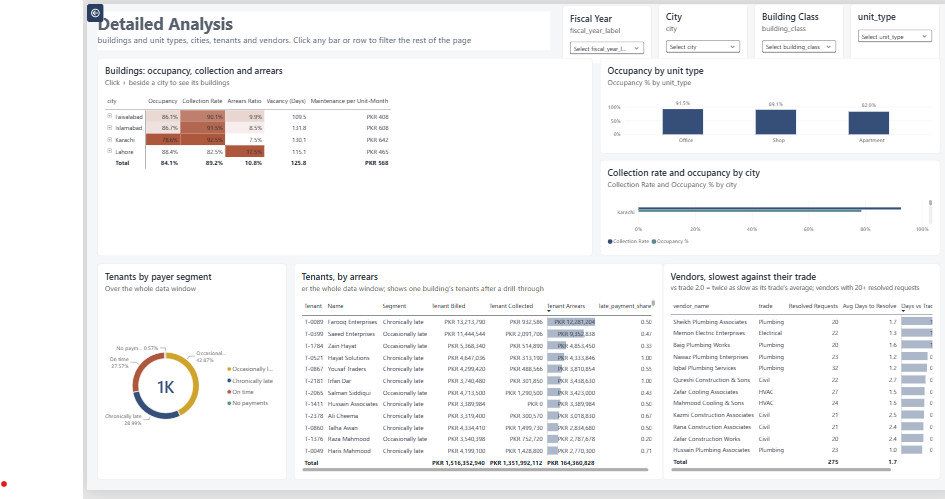

The page's visual inventory and layout, read from the dashboard file:
{"tool":"powerbi","page":{"name":"Detailed Analysis","canvas":[1920,1080],"ordinal":1},"visuals":[{"type":"textbox","box":[24,68,1006,36],"z":0},{"type":"textbox","box":[24,16,1006,56],"z":1000},{"type":"listSlicer","title":"Fiscal Year","fields":{"Values":["vw_dim_date.fiscal_year_label"]},"box":[1056,2,198,130],"z":2000},{"type":"listSlicer","title":"City","fields":{"Values":["vw_dim_building.city"]},"box":[1270,0,198,131.5],"z":3000},{"type":"listSlicer","title":"Building Class","fields":{"Values":["vw_dim_building.building_class"]},"box":[1484,0,198,131.5],"z":4000},{"type":"listSlicer","fields":{"Values":["vw_dim_unit_type.unit_type"]},"box":[1698,0,198,132],"z":5000},{"type":"pivotTable","title":"Buildings: occupancy, collection and arrears","fields":{"Rows":["vw_dim_building.city","vw_dim_building.building_name"],"Values":["_Measures.Occupancy %","_Measures.Collection Rate","_Measures.Arrears Ratio","_Measures.Avg Vacancy Days","_Measures.Maintenance Cost per Unit-Month"]},"box":[24,120,1100,440],"z":5001},{"type":"clusteredColumnChart","title":"Occupancy by unit type","fields":{"Category":["vw_dim_unit_type.unit_type"],"Y":["_Measures.Occupancy %"]},"box":[1140,120,756,212],"z":5002},{"type":"clusteredBarChart","title":"Collection rate and occupancy by city","fields":{"Category":["vw_dim_building.city"],"Y":["_Measures.Collection Rate","_Measures.Occupancy %"]},"box":[1140,348,756,212],"z":5003},{"type":"donutChart","title":"Tenants by payer segment","fields":{"Category":["vw_tenant_analysis.payer_segment"],"Y":["_Measures.Tenants"]},"box":[24,576,420,480],"z":5004},{"type":"tableEx","title":"Tenants, by arrears","fields":{"Values":["vw_tenant_analysis.tenant_code","vw_tenant_analysis.tenant_name","vw_tenant_analysis.payer_segment","_Measures.Tenant Billed","_Measures.Tenant Collected","_Measures.Tenant Arrears","vw_tenant_analysis.late_payment_share"]},"box":[460,576,820,480],"z":5005},{"type":"tableEx","title":"Vendors, slowest against their trade","fields":{"Values":["vw_dim_vendor.vendor_name","vw_dim_vendor.trade","_Measures.Resolved Requests","_Measures.Avg Days to Resolve","_Measures.Days vs Trade","_Measures.SLA Breach %"]},"box":[1280,576,616,480],"z":5006},{"type":"actionButton","box":[0,0,37,40],"z":5008}]}

Visuals, with their boxes on the page's 1920x1080 design canvas (x1, y1, x2, y2). These are canvas units, not pixel positions in the 945x499 screenshot, which may show the page scaled, cropped or inside an application window:
textbox: pyautogui.locateOnScreen(24, 68, 1030, 104)
textbox: pyautogui.locateOnScreen(24, 16, 1030, 72)
"Fiscal Year" listSlicer: pyautogui.locateOnScreen(1056, 2, 1254, 132)
"City" listSlicer: pyautogui.locateOnScreen(1270, 0, 1468, 132)
"Building Class" listSlicer: pyautogui.locateOnScreen(1484, 0, 1682, 132)
listSlicer - vw_dim_unit_type.unit_type: pyautogui.locateOnScreen(1698, 0, 1896, 132)
"Buildings: occupancy, collection and arrears" pivotTable: pyautogui.locateOnScreen(24, 120, 1124, 560)
"Occupancy by unit type" clusteredColumnChart: pyautogui.locateOnScreen(1140, 120, 1896, 332)
"Collection rate and occupancy by city" clusteredBarChart: pyautogui.locateOnScreen(1140, 348, 1896, 560)
"Tenants by payer segment" donutChart: pyautogui.locateOnScreen(24, 576, 444, 1056)
"Tenants, by arrears" tableEx: pyautogui.locateOnScreen(460, 576, 1280, 1056)
"Vendors, slowest against their trade" tableEx: pyautogui.locateOnScreen(1280, 576, 1896, 1056)
actionButton: pyautogui.locateOnScreen(0, 0, 37, 40)
